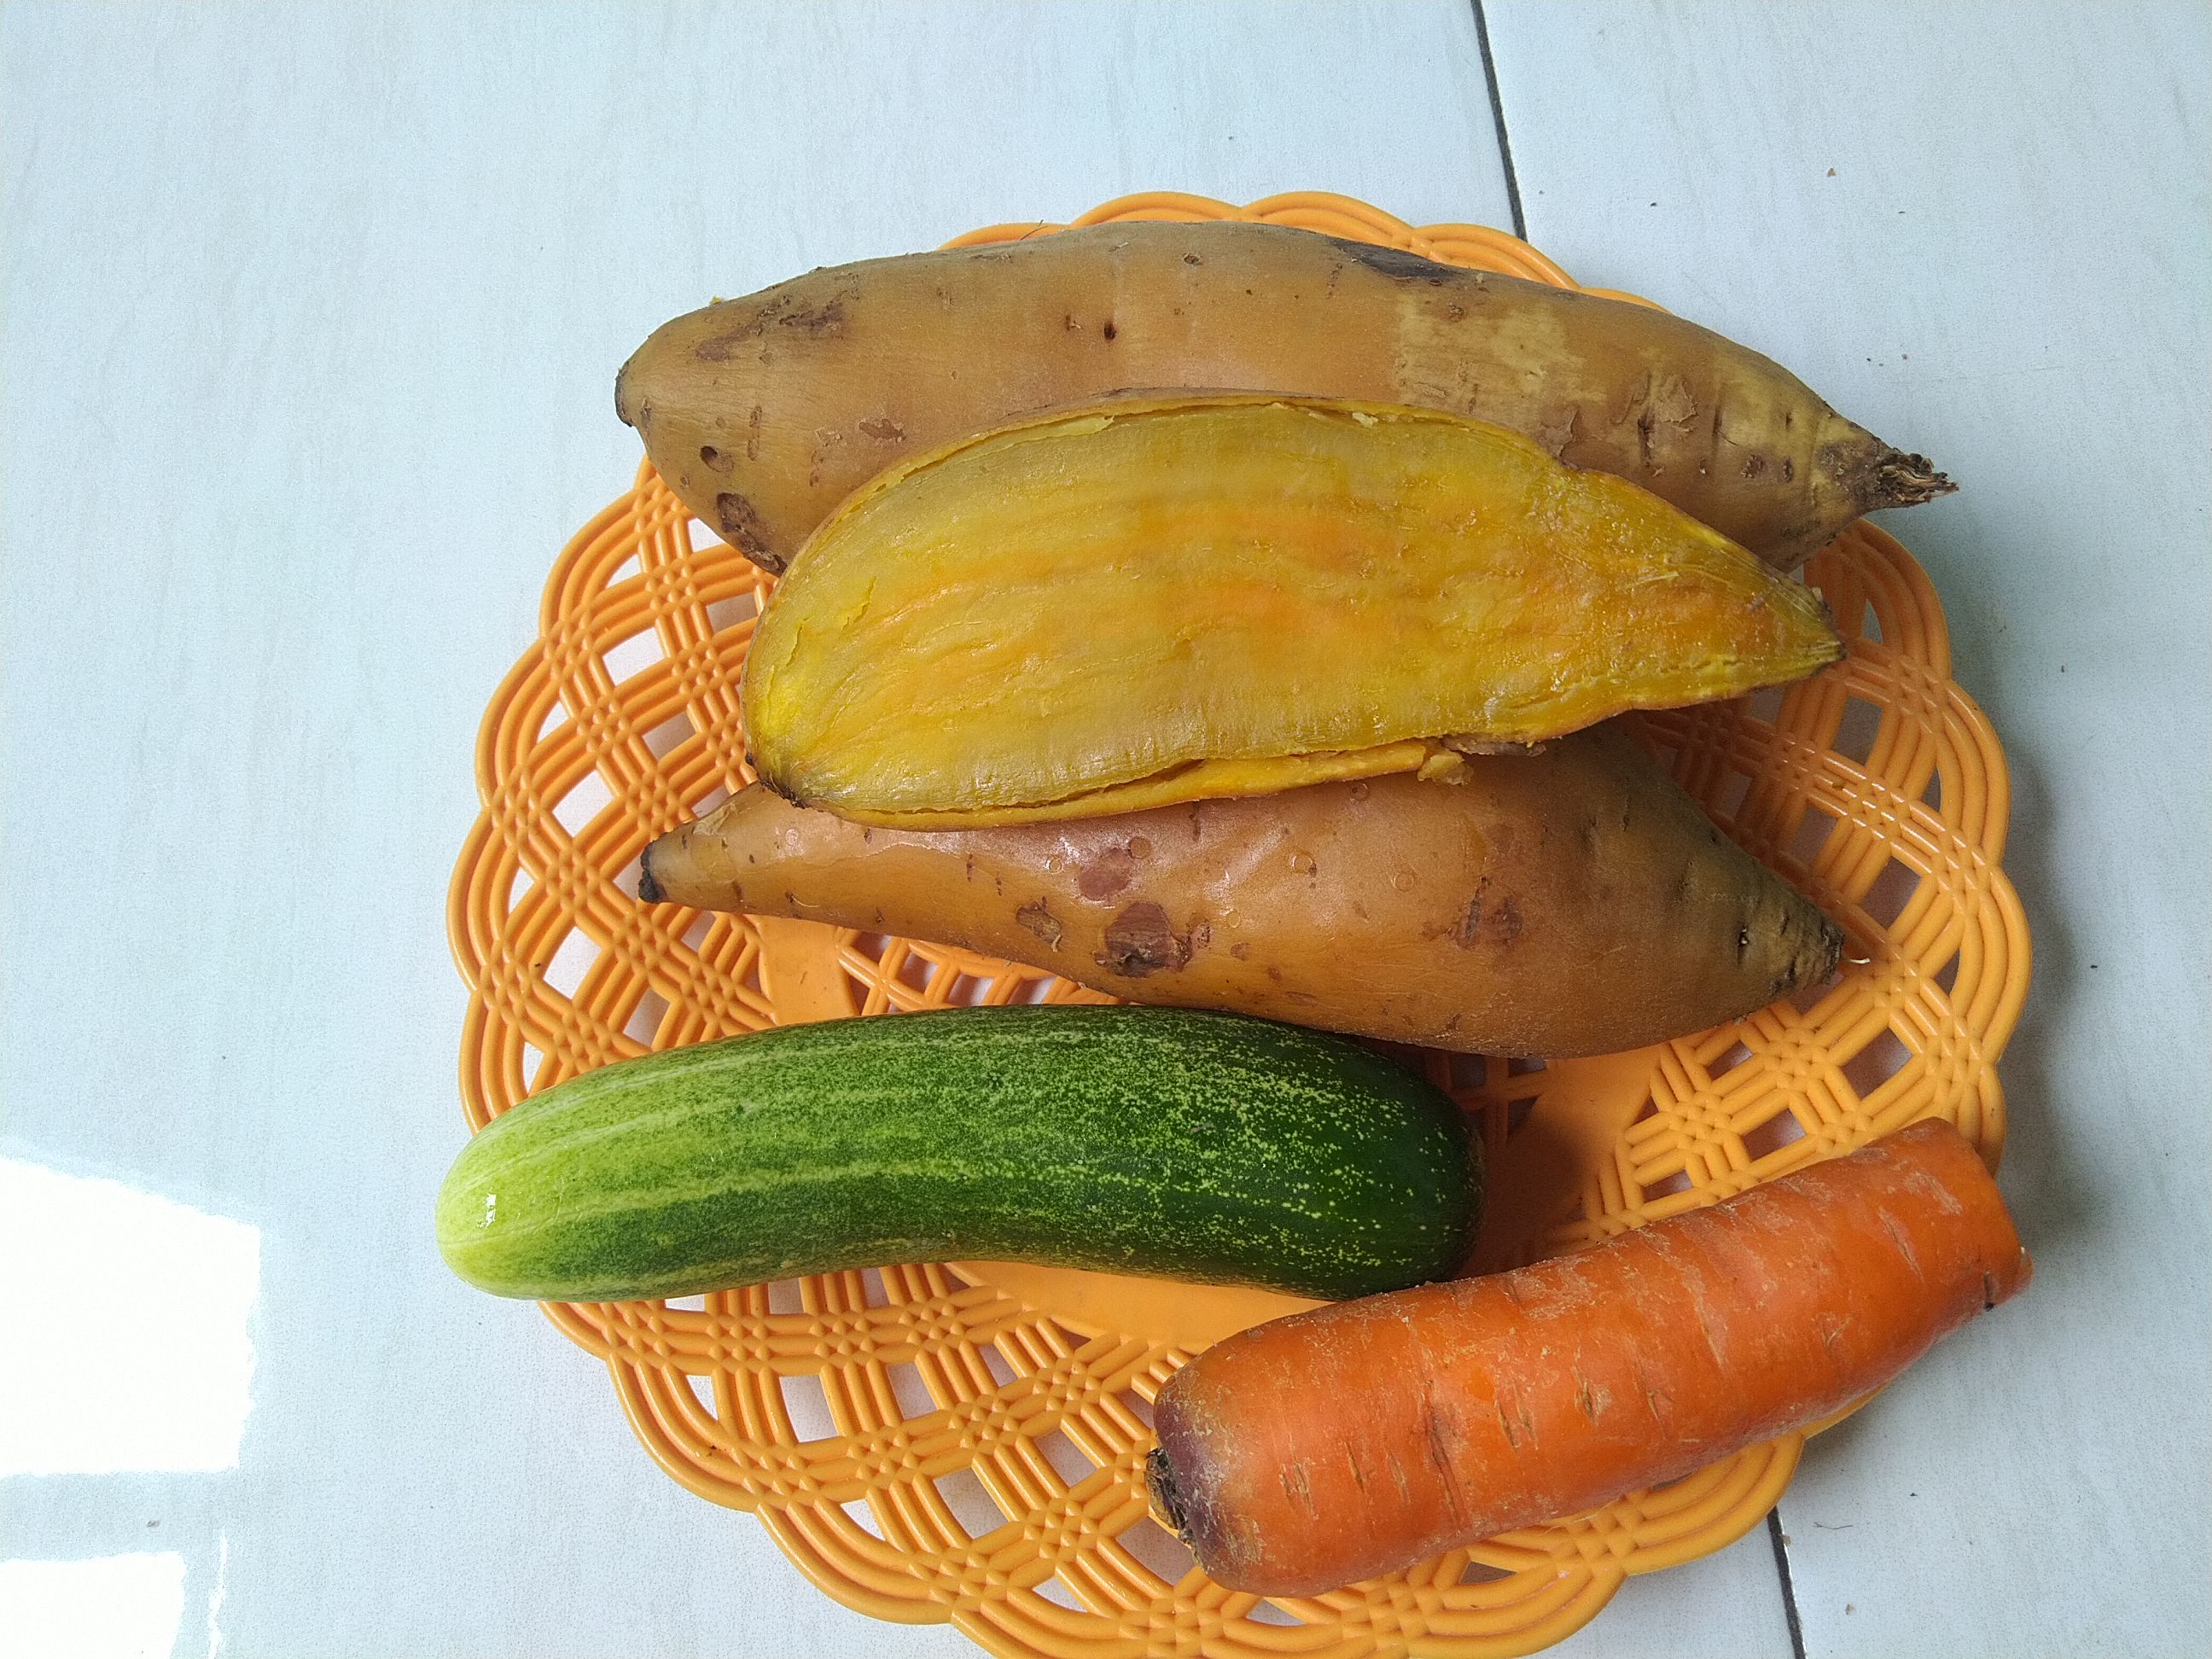ubi cilembu: (611, 223, 1966, 603), (738, 385, 1876, 812), (627, 721, 1878, 1039)
